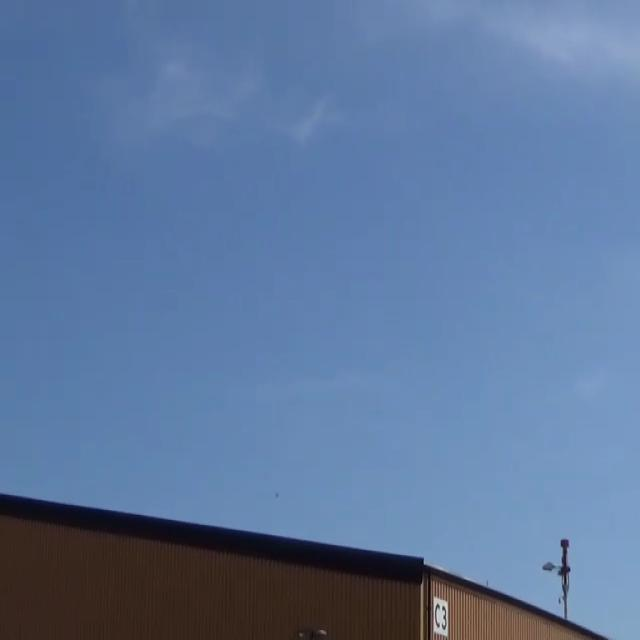Helicopter: (262, 478, 290, 512)
